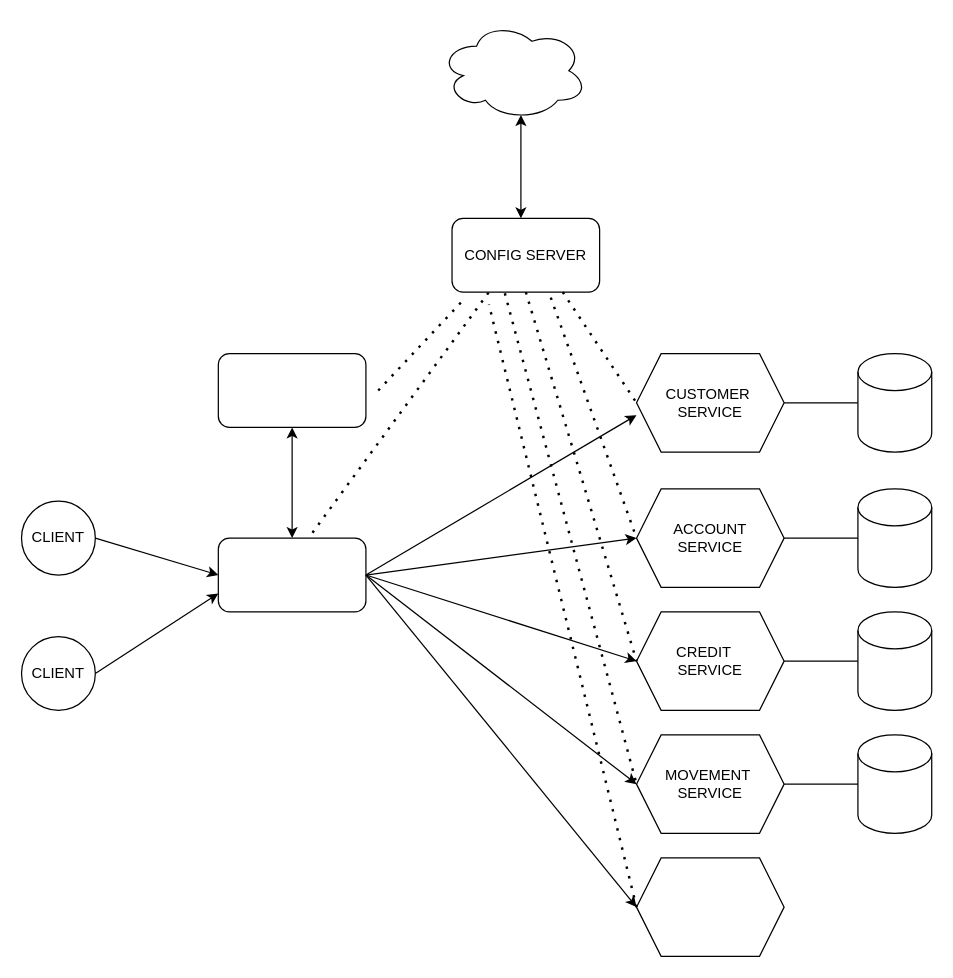
This 953x978 diagram has some shape labels left out. The shapes that lost their labels are listed below. From the top down, each one's centre as x and y in pixels, then its label:
At pixel 512 70: "GITHUB".
At pixel 291 389: "SERVICE DISCOVERY".
At pixel 291 574: "API GATEWAY".
At pixel 709 906: "REPORT SERVICE".
